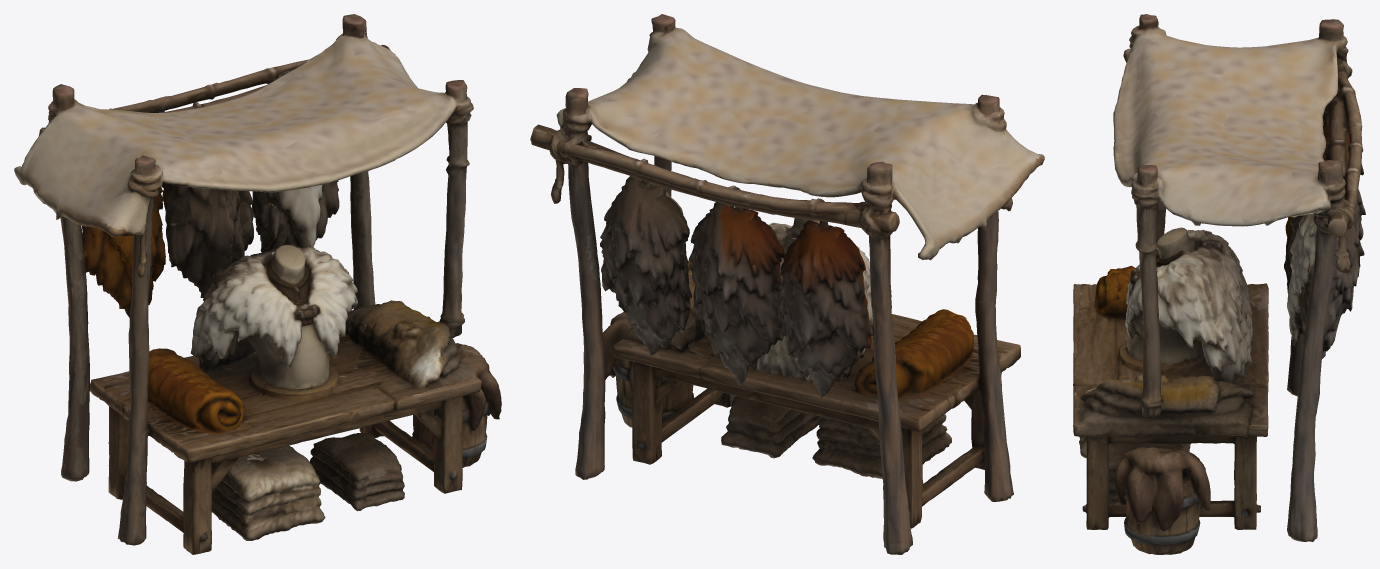
The model's file is dwarven_fur_store_LOD.fbx.
3 renders of one model, left to right at view 1: azimuth 30°, elevation 25°; view 2: azimuth 150°, elevation 25°; view 3: azimuth 270°, elevation 25°, orthographic. The views are drawn at different scales.
Visible parts, largest first — view 1: dwarven_fur_store_LOD0; view 2: dwarven_fur_store_LOD0; view 3: dwarven_fur_store_LOD0.
Boxes of the visible parts, x1,y1,x2,y2 form: dwarven_fur_store_LOD0: (14, 14, 501, 554); dwarven_fur_store_LOD0: (530, 14, 1044, 554); dwarven_fur_store_LOD0: (1073, 14, 1365, 554).
Size of what is drawn, in the model's own units: 191 by 173 by 122.
Materials: 1 (1 with a texture image).
